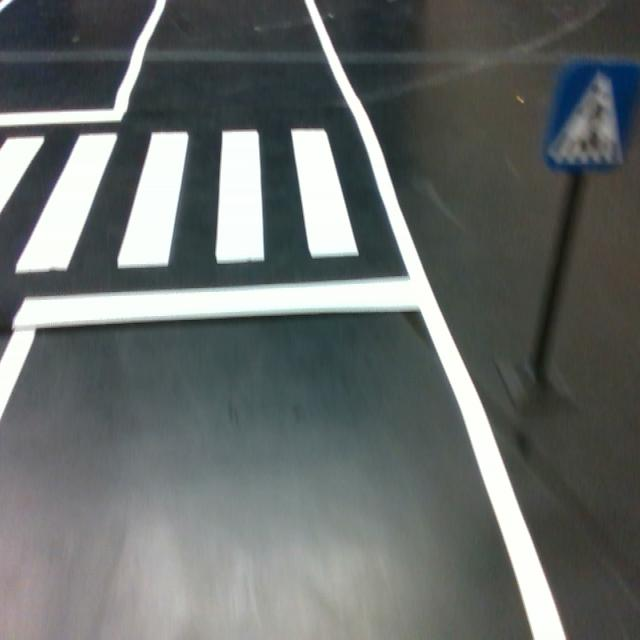crosswalk-sign: (541, 60, 640, 174)
